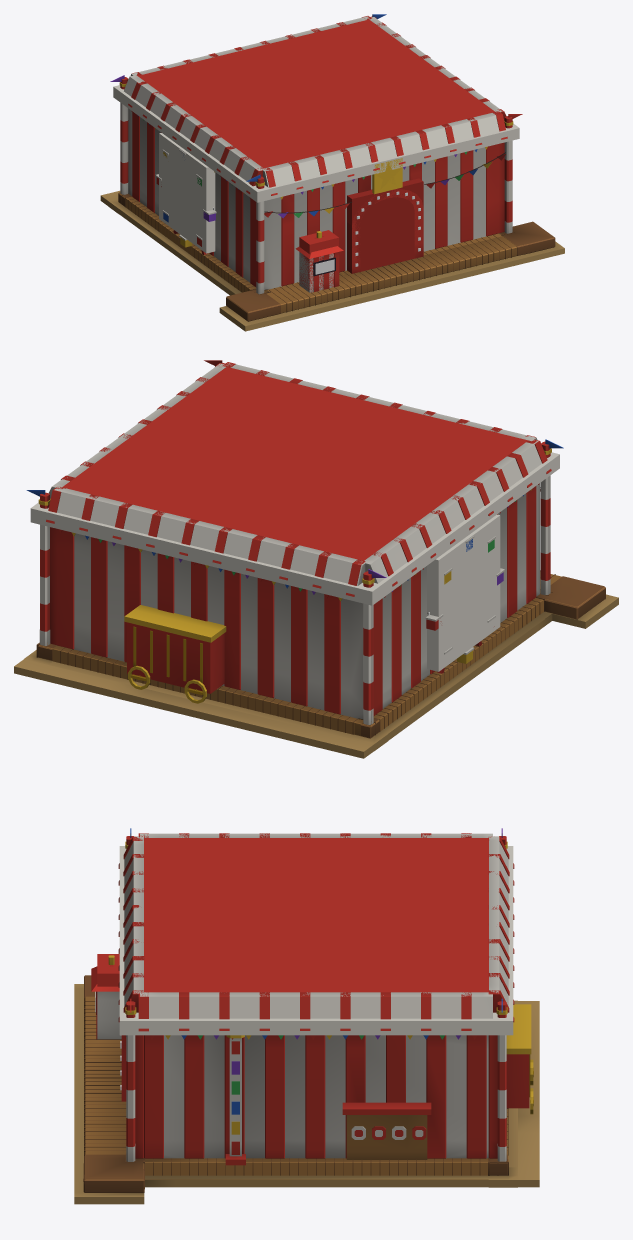
Rendered from PrizeMachineFloor.fbx.
3 views of the same model, one above another, from view 1: azimuth 30°, elevation 25°; view 2: azimuth 150°, elevation 25°; view 3: azimuth 270°, elevation 25° (orthographic). The views are drawn at different scales.
Parts seen in each view (by area): view 1: PM_S_All, PM_F_Rings, PM_F_Smooth, PM_F_Props, PM_F_Quiet, PM_F_Glass; view 2: PM_S_All, PM_F_Rings, PM_F_Smooth, PM_F_Quiet, PM_F_Props; view 3: PM_S_All, PM_F_Rings, PM_F_Smooth, PM_F_Quiet, PM_F_Props.
Boxes of the visible parts, x1,y1,x2,y2 form: PM_S_All: (113, 19, 519, 292); PM_F_Rings: (118, 16, 555, 321); PM_F_Smooth: (100, 14, 564, 331); PM_F_Props: (120, 16, 512, 293); PM_F_Quiet: (101, 190, 564, 326); PM_F_Glass: (213, 191, 420, 274); PM_S_All: (30, 367, 559, 738); PM_F_Rings: (38, 362, 605, 737); PM_F_Smooth: (14, 360, 618, 758); PM_F_Quiet: (14, 594, 618, 751); PM_F_Props: (39, 363, 550, 724); PM_S_All: (97, 838, 513, 1179); PM_F_Rings: (83, 833, 531, 1192); PM_F_Smooth: (74, 828, 539, 1204); PM_F_Quiet: (74, 984, 539, 1196); PM_F_Props: (91, 836, 506, 1165).
Bounding box in the file's own units: 60 × 20 × 60.
